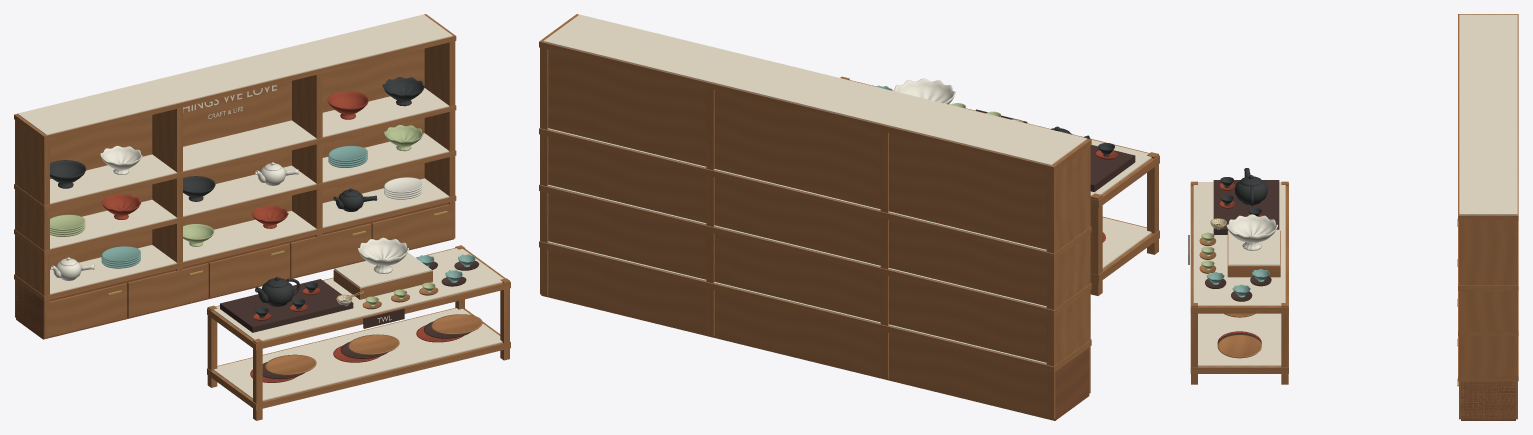
File: gallery.glb
3 renders of one model, left to right at view 1: azimuth 30°, elevation 25°; view 2: azimuth 150°, elevation 25°; view 3: azimuth 270°, elevation 25°, orthographic. The views are drawn at different scales.
Parts seen in each view (by area): view 1: TWLOak, TWLTimber, TWLGlaze, TWLStoneware; view 2: TWLOak, TWLTimber, TWLGlaze; view 3: TWLTimber, TWLOak, TWLGlaze, TWLStoneware.
Part boxes in pixels (x1,y1,x2,y2): TWLOak: (14,14,510,420); TWLTimber: (17,14,503,400); TWLGlaze: (50,91,479,382); TWLStoneware: (50,77,424,318); TWLOak: (539,14,1159,420); TWLTimber: (543,14,1151,364); TWLGlaze: (876,78,1135,242); TWLTimber: (1193,14,1517,366); TWLOak: (1190,14,1518,420); TWLGlaze: (1188,180,1279,344); TWLStoneware: (1220,168,1267,216).
Bounding box in the file's own units: 4.96 × 2.38 × 3.43.
Materials: 5 (1 with a texture image).
